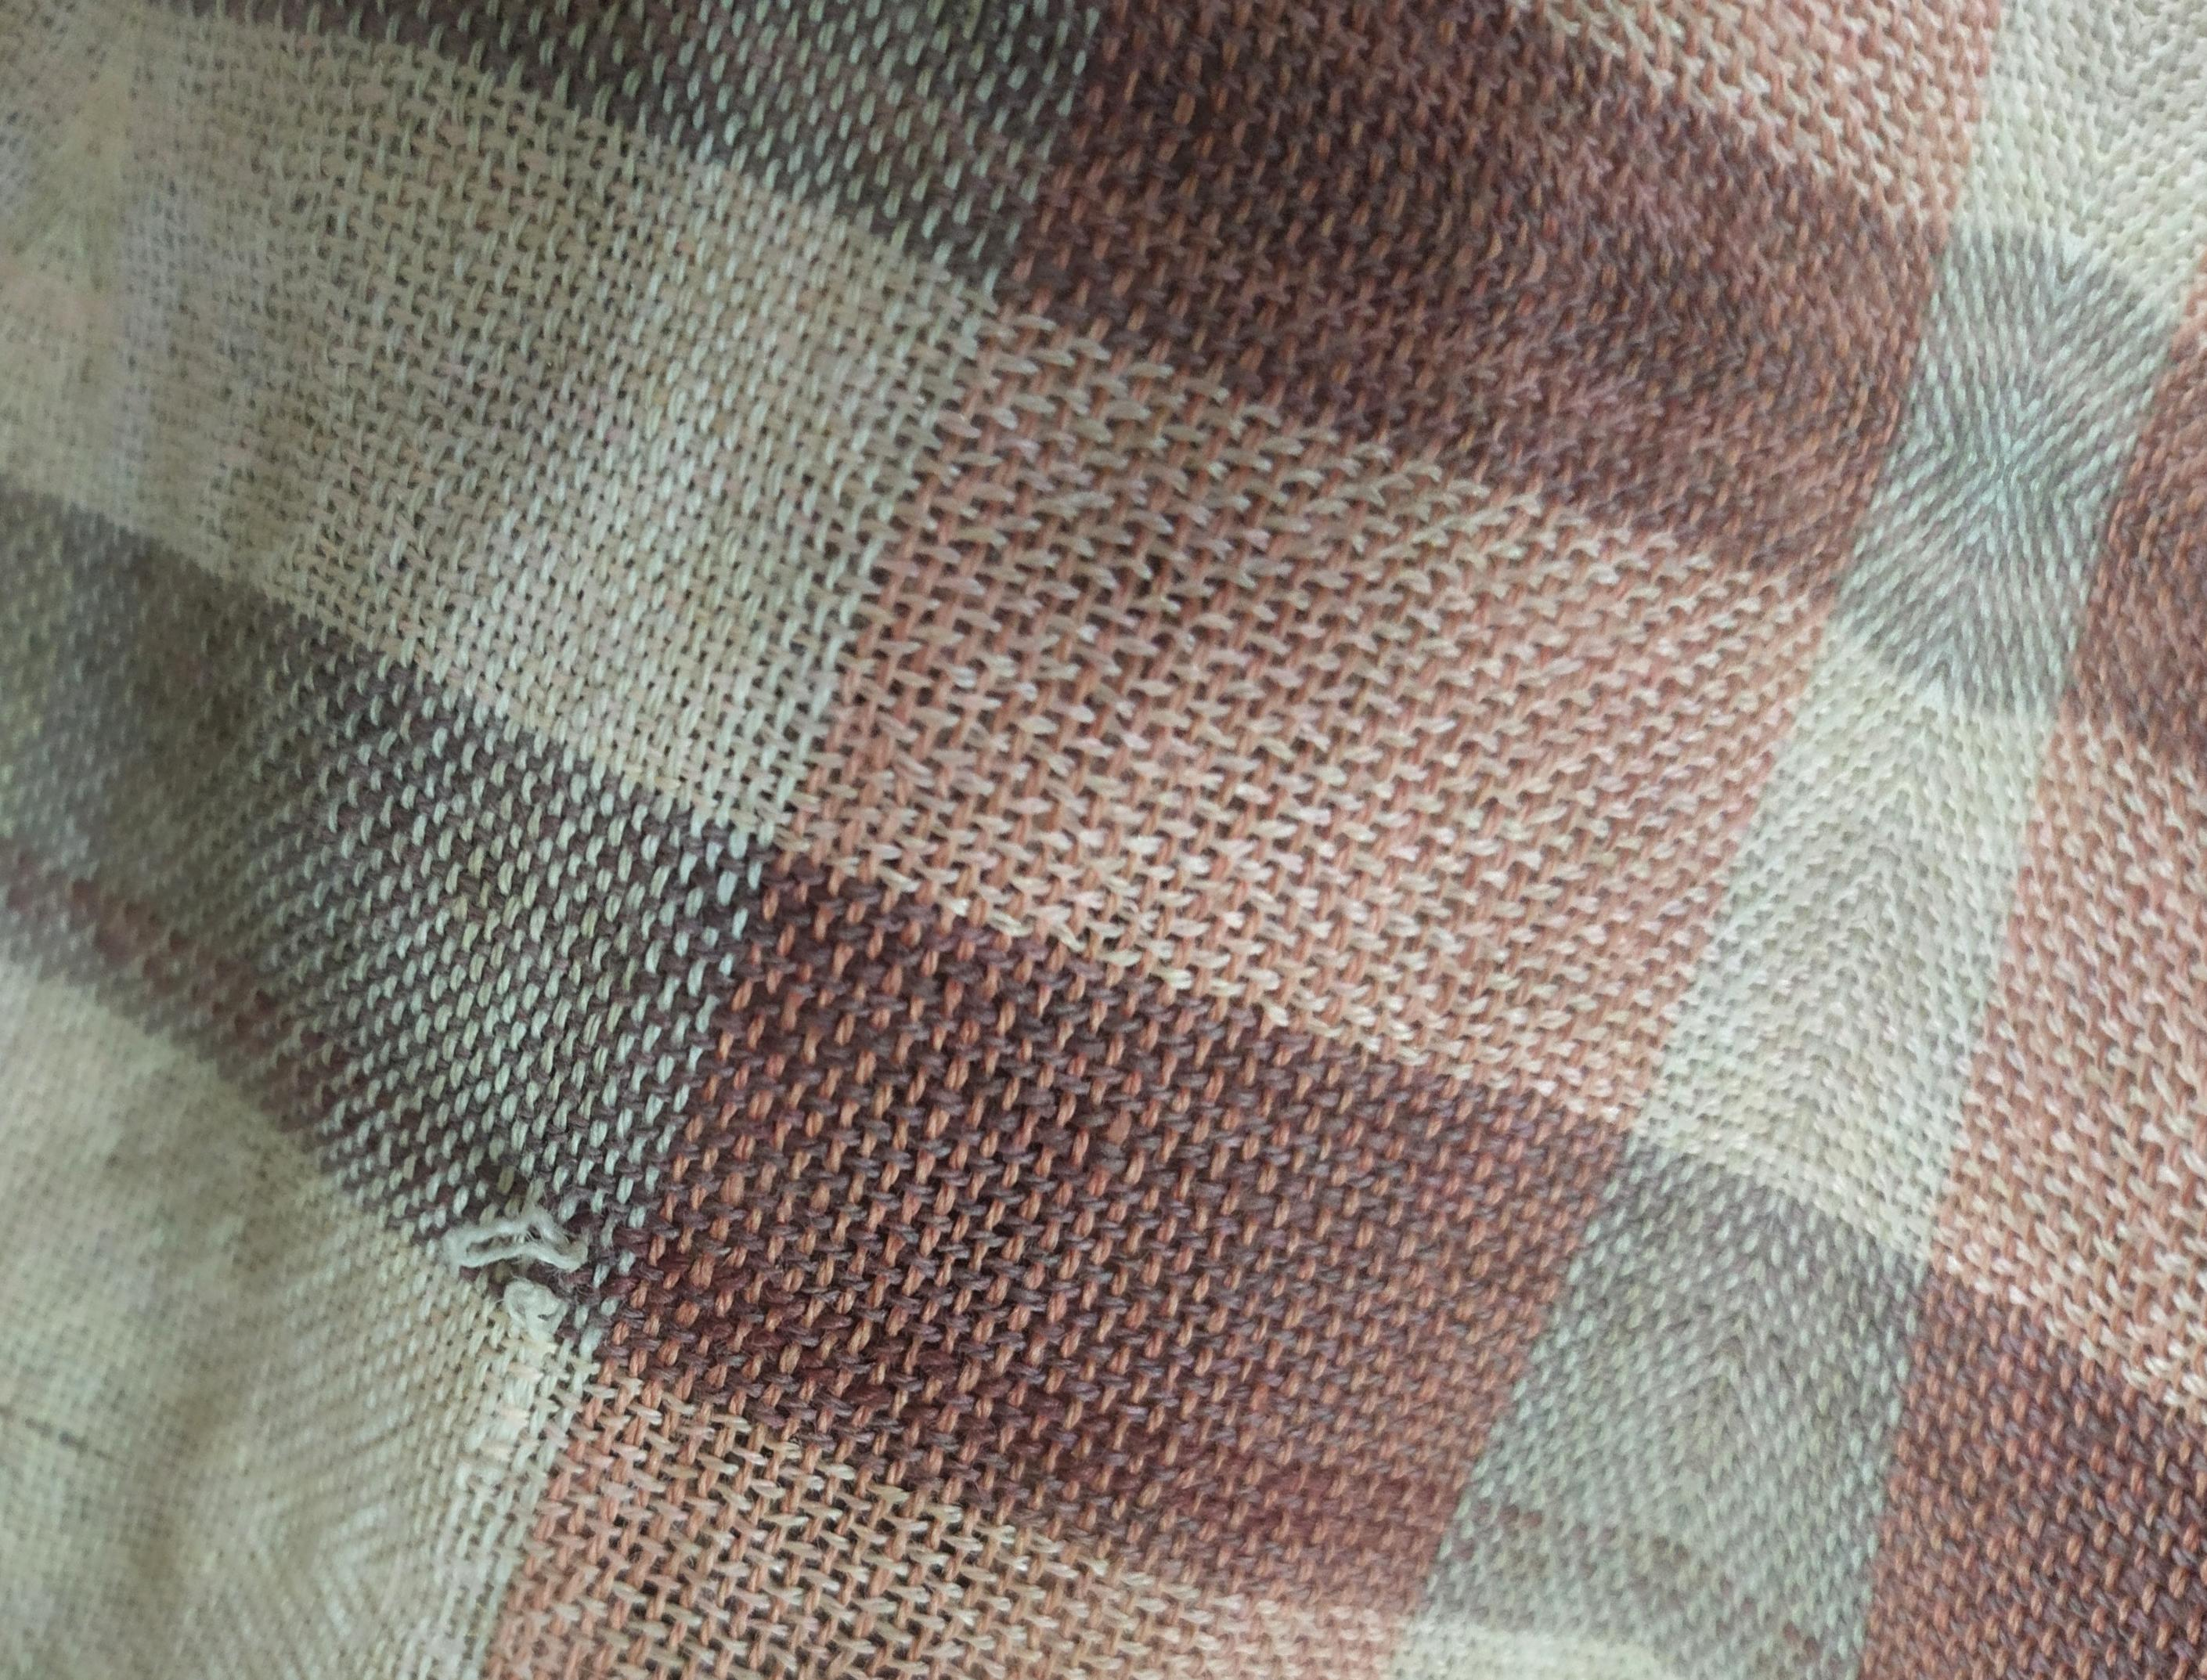snag: (376, 1175, 630, 1384)
